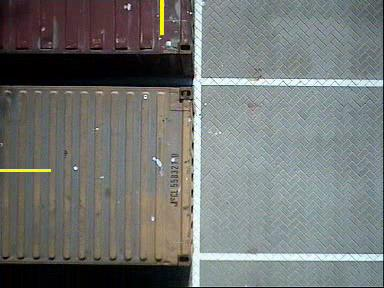groundmarker_2: (136, 185, 197, 219), (131, 4, 193, 37)
